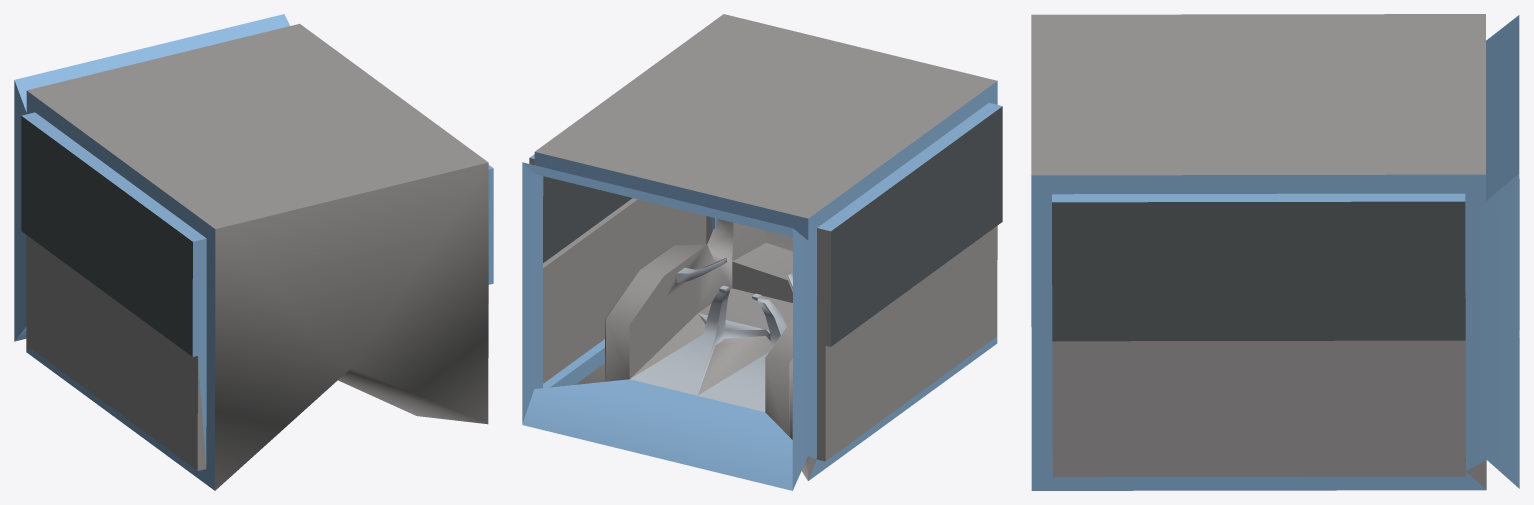
Rendered from Bay.fbx.
3 views of the same model, side by side, from view 1: azimuth 30°, elevation 25°; view 2: azimuth 150°, elevation 25°; view 3: azimuth 270°, elevation 25° (orthographic). The views are drawn at different scales.
Visible parts, largest first — view 1: Null_1; view 2: Null_1; view 3: Null_1.
Boxes of the visible parts, x1,y1,x2,y2 form: Null_1: (14, 14, 493, 490); Null_1: (522, 14, 1002, 490); Null_1: (1031, 14, 1519, 490).
Bounding box in the file's own units: 568 × 474 × 664.
